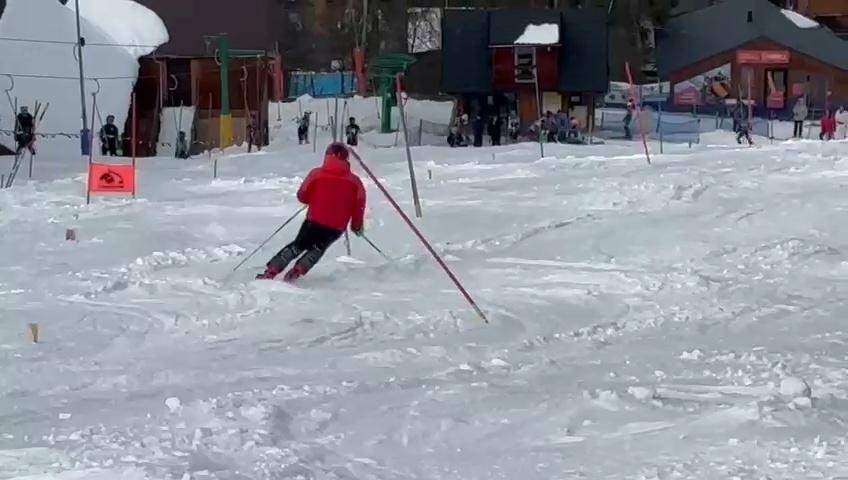gate: (348, 145, 505, 338), (389, 78, 423, 215), (621, 58, 659, 178), (78, 90, 102, 208), (127, 94, 142, 201), (53, 213, 81, 244), (210, 153, 224, 180), (26, 320, 41, 344), (490, 150, 499, 165), (427, 167, 435, 181)
